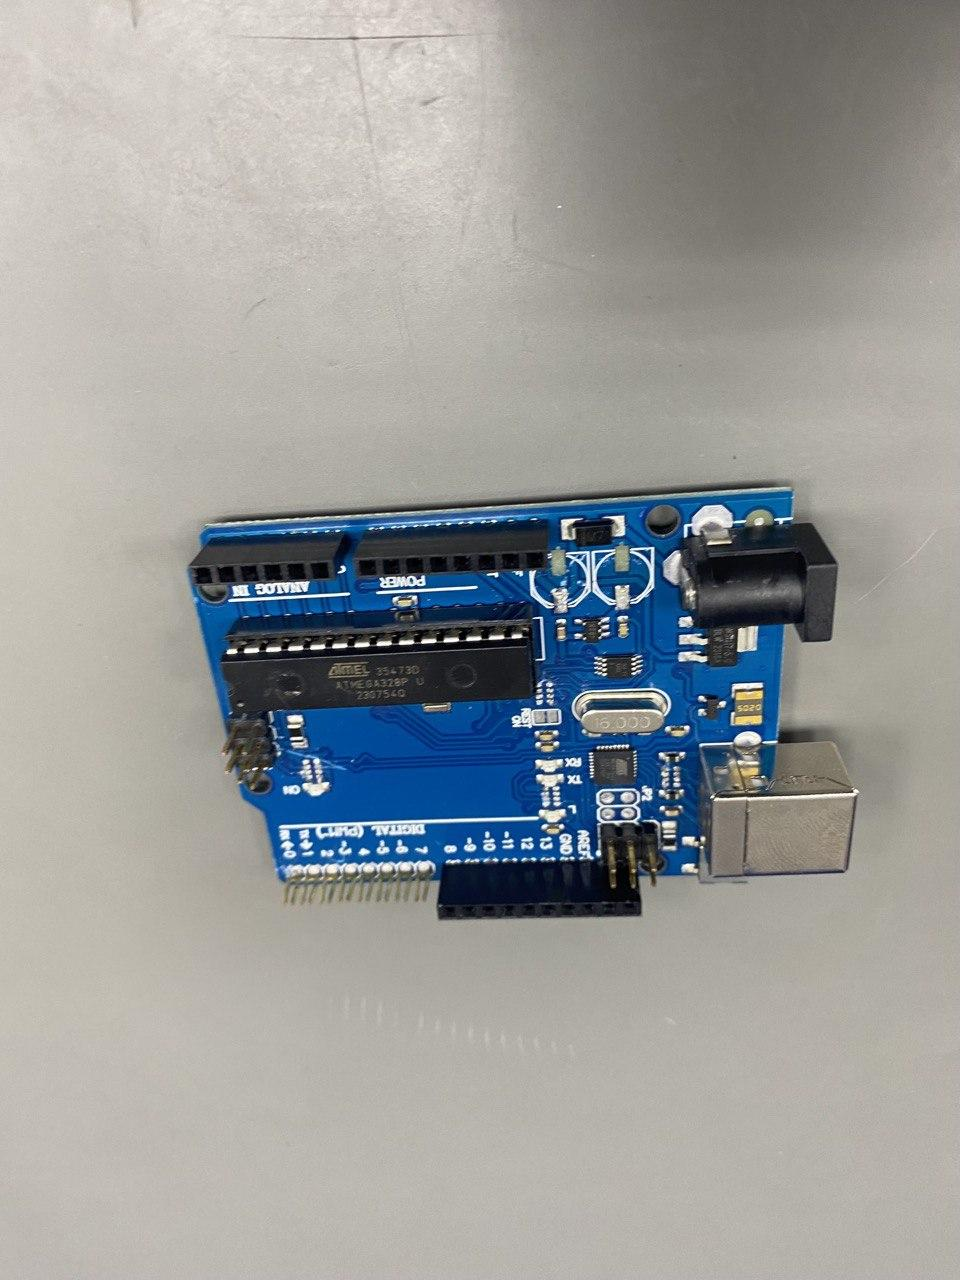ATmega328 chip: (219, 603, 534, 713)
Arduino board: (186, 487, 858, 919)
USB: (698, 740, 858, 875)
pins: (439, 859, 642, 919), (355, 522, 550, 577), (189, 532, 352, 585)
